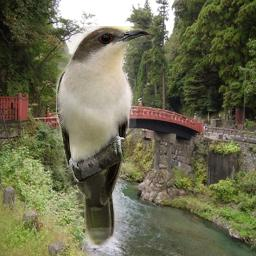Cuckoo: (56, 26, 151, 249)
